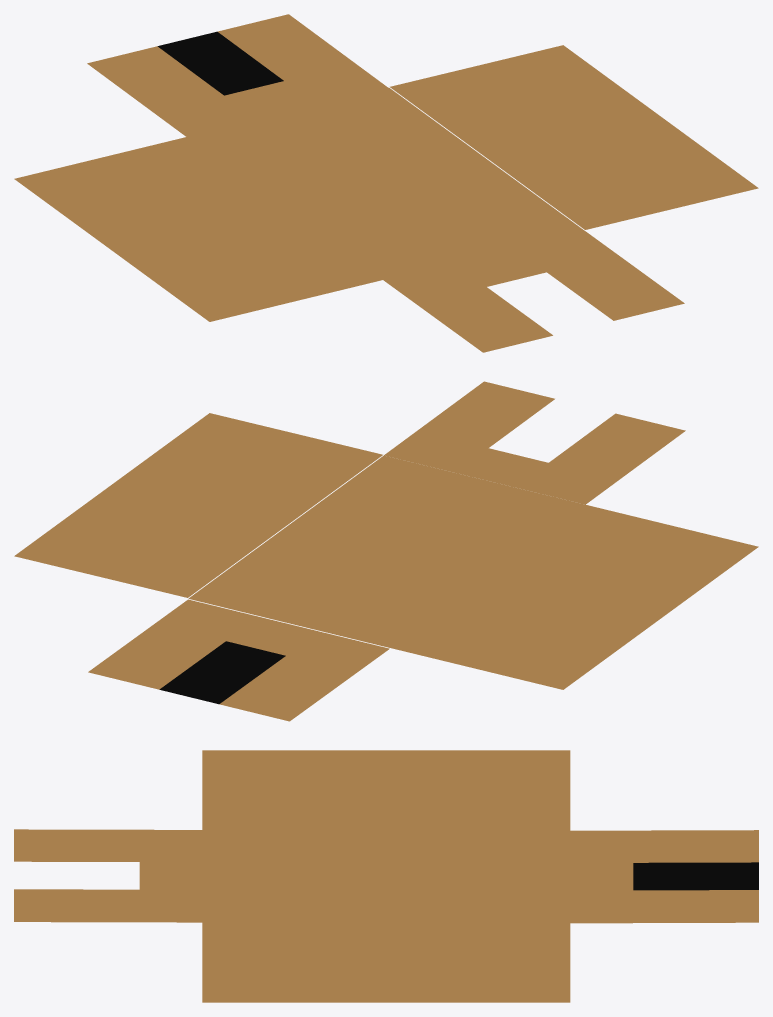
File: boxAnim.fbx
3 renders of one model, top to bottom at view 1: azimuth 30°, elevation 25°; view 2: azimuth 150°, elevation 25°; view 3: azimuth 270°, elevation 25°, orthographic. The views are drawn at different scales.
Visible parts, largest first — view 1: polySurface8, polySurface6, polySurface2, polySurface7, polySurface3; view 2: polySurface8, polySurface6, polySurface2, polySurface7, polySurface3; view 3: polySurface8, polySurface2, polySurface6, polySurface7, polySurface3.
Part boxes in pixels (<box>): polySurface8: <box>87,46,583,279</box>; polySurface6: <box>14,136,382,321</box>; polySurface2: <box>390,45,758,229</box>; polySurface7: <box>120,14,387,136</box>; polySurface3: <box>383,230,684,352</box>; polySurface8: <box>188,455,584,721</box>; polySurface6: <box>390,504,758,689</box>; polySurface2: <box>14,413,382,597</box>; polySurface7: <box>88,599,389,704</box>; polySurface3: <box>384,381,685,504</box>; polySurface8: <box>202,830,758,922</box>; polySurface2: <box>202,922,570,1002</box>; polySurface6: <box>202,750,570,830</box>; polySurface7: <box>570,830,758,923</box>; polySurface3: <box>14,829,202,922</box>.
Bounding box in the file's own units: 3.86 × 0.00928 × 4.82.
